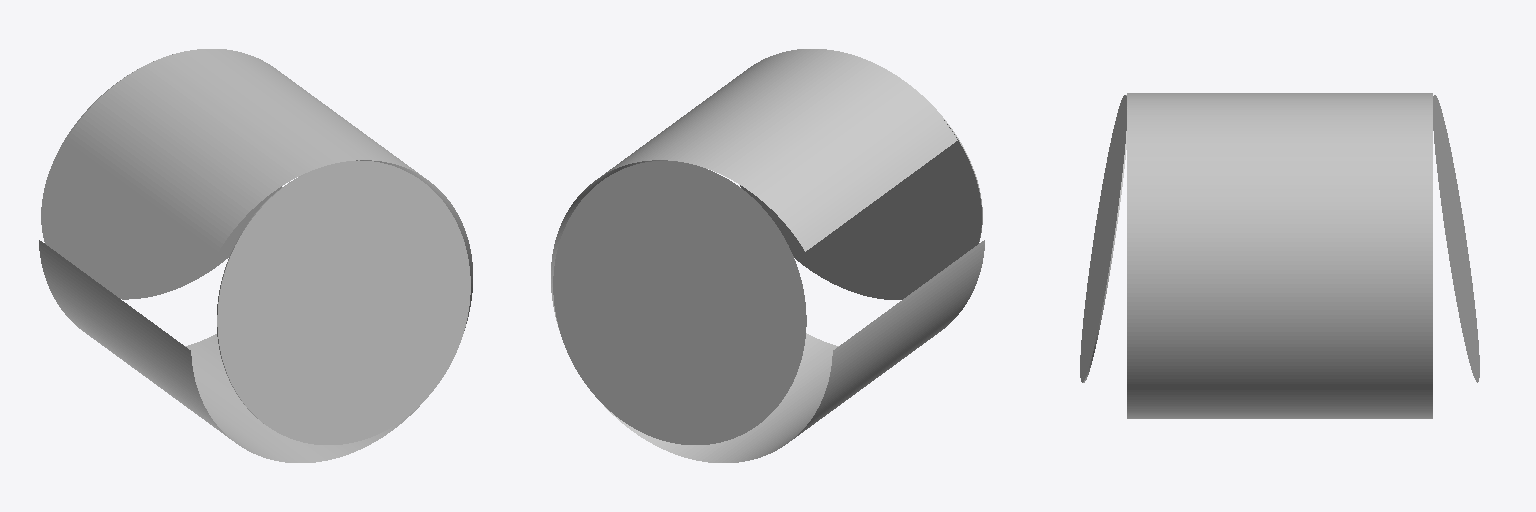
The model's file is plane bend80.obj.
3 views of the same model, side by side, from view 1: azimuth 30°, elevation 25°; view 2: azimuth 150°, elevation 25°; view 3: azimuth 270°, elevation 25° (orthographic).
Parts seen in each view (by area): view 1: Circle, Plane, Circle.001; view 2: Circle.001, Plane, Circle; view 3: Plane, Circle, Circle.001.
Boxes of the visible parts, box(x1,y1,x2,y2) form: Circle: box(217, 160, 470, 444); Plane: box(39, 49, 472, 462); Circle.001: box(41, 54, 281, 299); Circle.001: box(553, 161, 806, 444); Plane: box(551, 49, 984, 462); Circle: box(740, 54, 982, 299); Plane: box(1127, 93, 1432, 418); Circle: box(1080, 95, 1127, 382); Circle.001: box(1433, 95, 1479, 382).
Size of the model in its own units: 2.14 by 2.14 by 2.62.